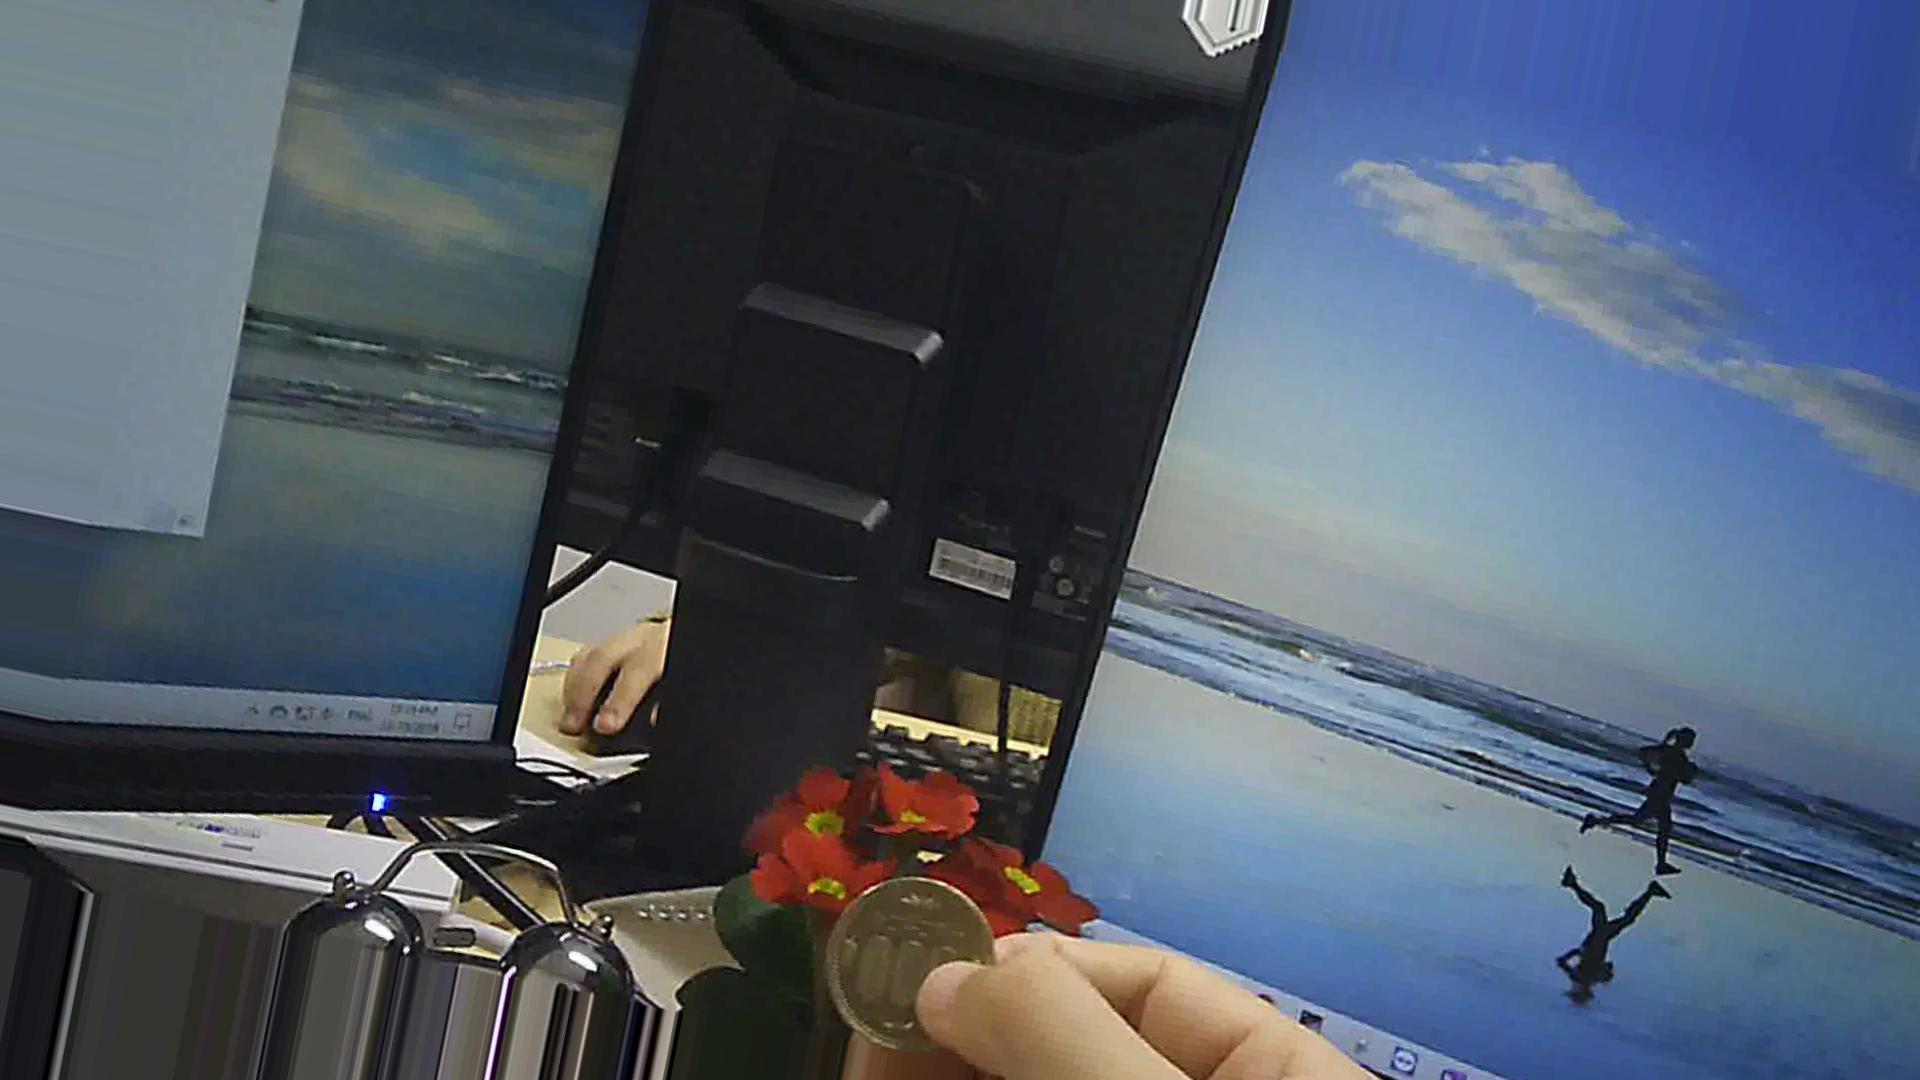500 Yen: (816, 865, 1029, 1050)
